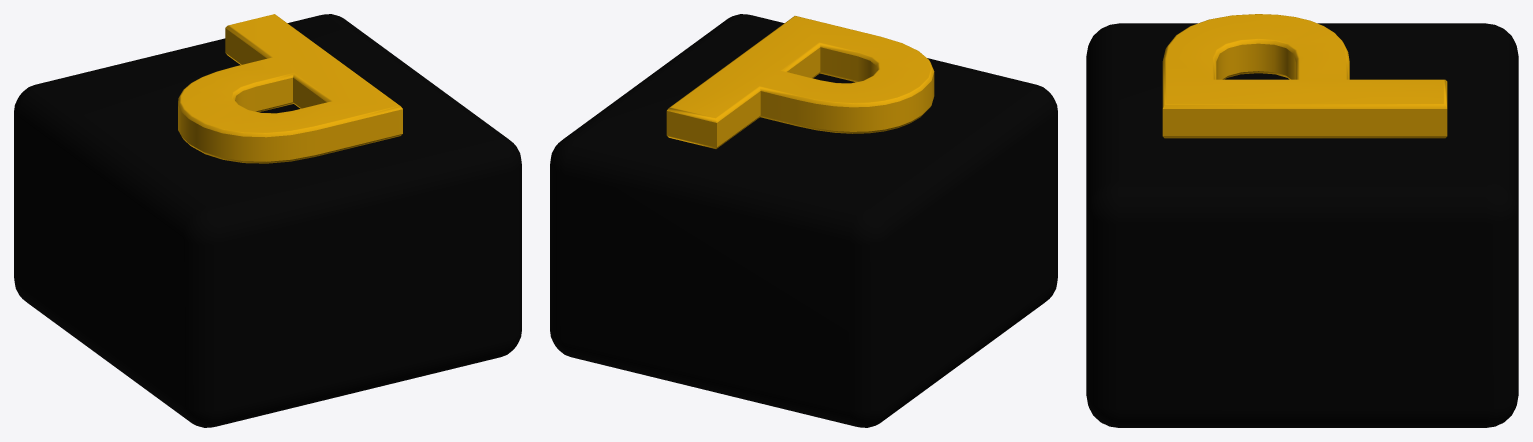
File: PlayerTile.fbx
The picture shows the model from 3 angles, left to right: view 1: azimuth 30°, elevation 25°; view 2: azimuth 150°, elevation 25°; view 3: azimuth 270°, elevation 25°; orthographic projection. The views are drawn at different scales.
Visible parts, largest first — view 1: PlayerTile; view 2: PlayerTile; view 3: PlayerTile.
Boxes of the visible parts, x1,y1,x2,y2 form: PlayerTile: [14, 14, 521, 427]; PlayerTile: [550, 14, 1057, 427]; PlayerTile: [1086, 14, 1518, 427].
Bounding box in the file's own units: 95 × 68.29 × 95.
